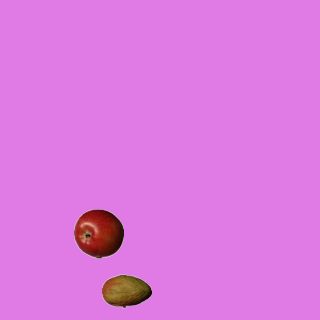Apple Braeburn: (73, 208, 123, 258)
Papaya: (101, 266, 151, 316)
